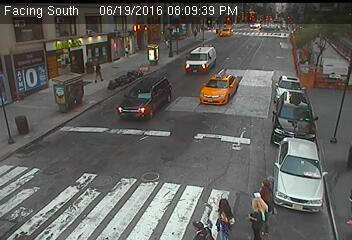neg: (145, 39, 164, 64), (120, 43, 130, 56), (172, 26, 181, 38)
pos: (207, 193, 240, 237), (242, 196, 274, 239), (255, 178, 277, 207), (89, 61, 106, 83), (193, 217, 208, 237)
